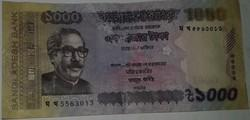1000 taka: (3, 1, 249, 110)
